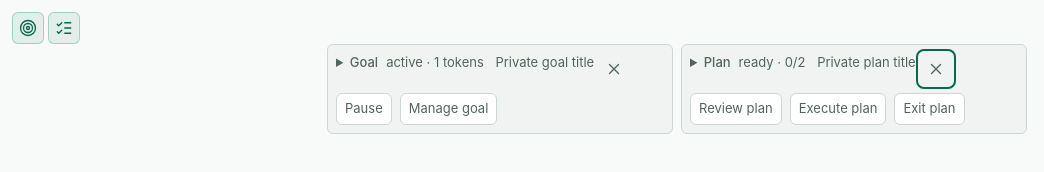
Test: ExtensionUIPanel › returns keyboard focus from hidden Plan to its toolbar and then back to the card
The image size is (1044, 172).
What coordinates should you click on to do the following:
click the button named "Hide Plan" next to "Private plan title"
I would click on:
 (936, 69)
Its box is [920,53,952,85].
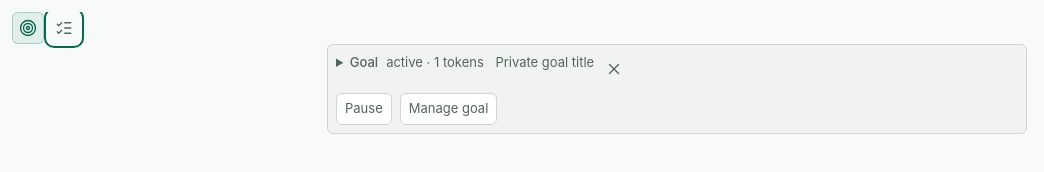
What coordinates should you click on to do the following:
click the button named "Show Plan"
I would click on:
 (64, 28)
Its box is [48,12,80,44].
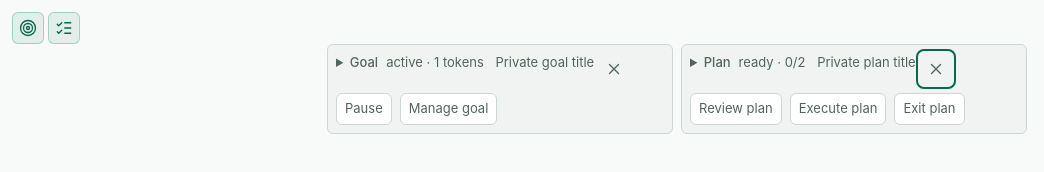
Expected: the element with test id "workflow-plan" is shown, [681,44,1027,134]
